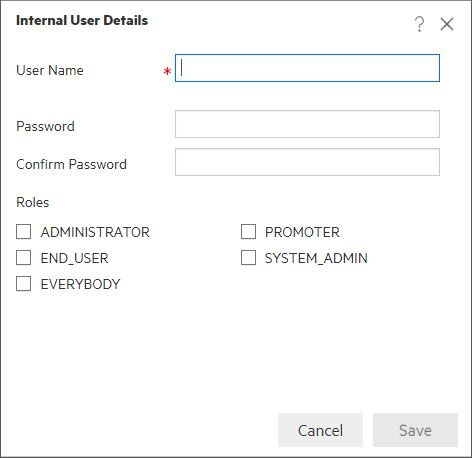button: (267, 410, 367, 451), (371, 410, 461, 451)
checkbox: (10, 273, 37, 296), (11, 247, 36, 269), (235, 249, 260, 269), (12, 221, 35, 241), (235, 223, 259, 241)
textbox: (159, 50, 445, 92), (168, 146, 448, 181), (169, 108, 443, 141)
